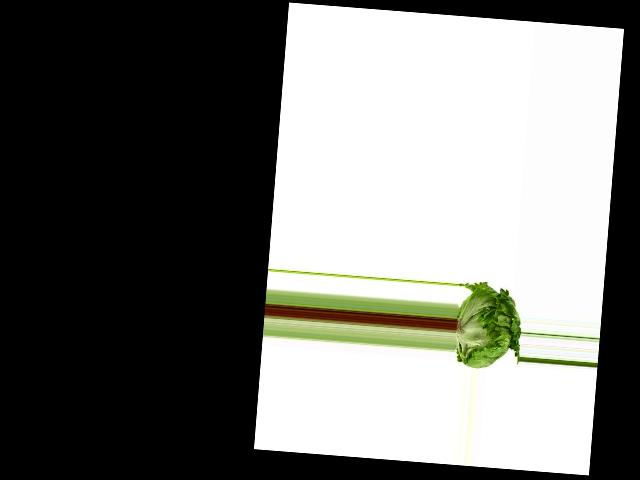lettuce: (452, 276, 524, 374)
